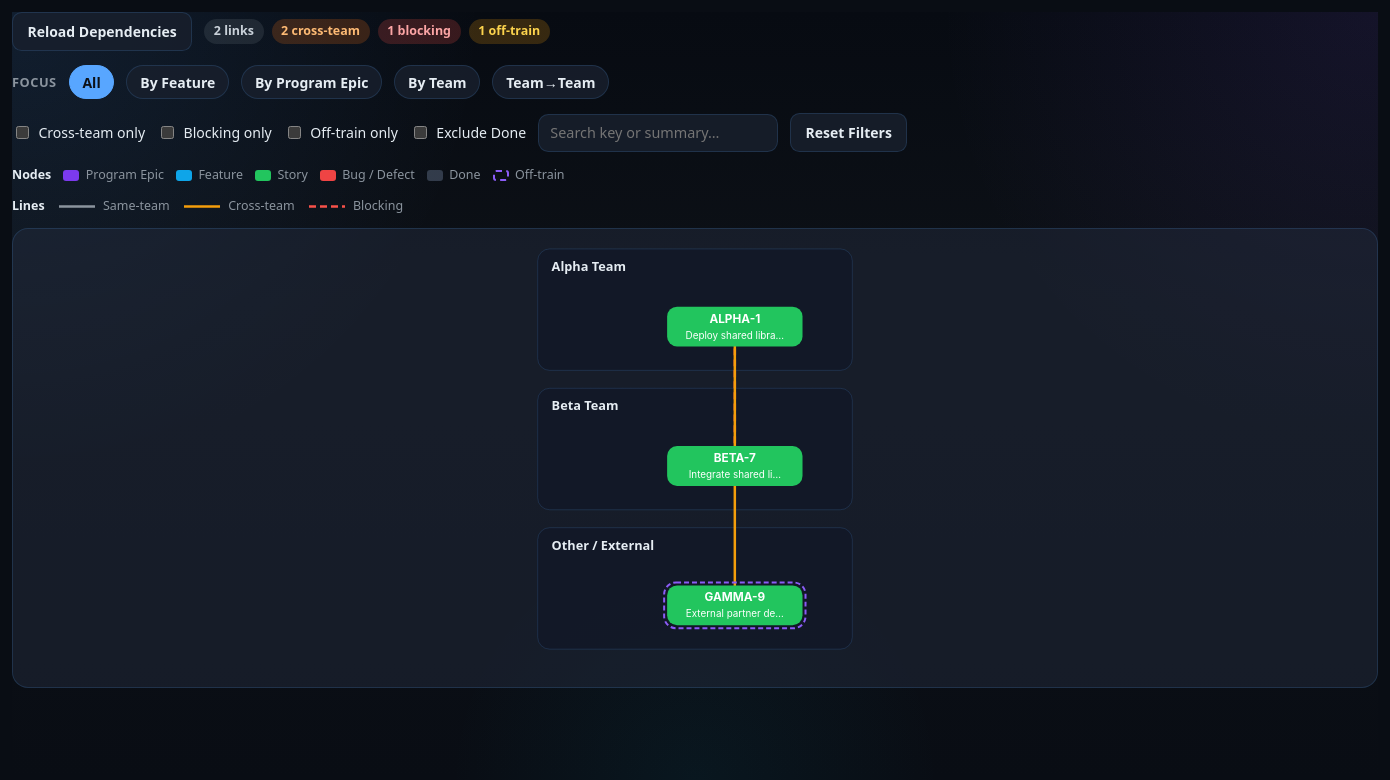
Test case: DependenciesTab › filters the graph to off-train edges only
The width and height of the screenshot is (1390, 780).
Expected: the icon named "Dependency Graph" is shown, [12, 228, 1378, 688]
Click the checkbox labelled "Off-train only" at x=294, y=133, box [288, 126, 301, 139]
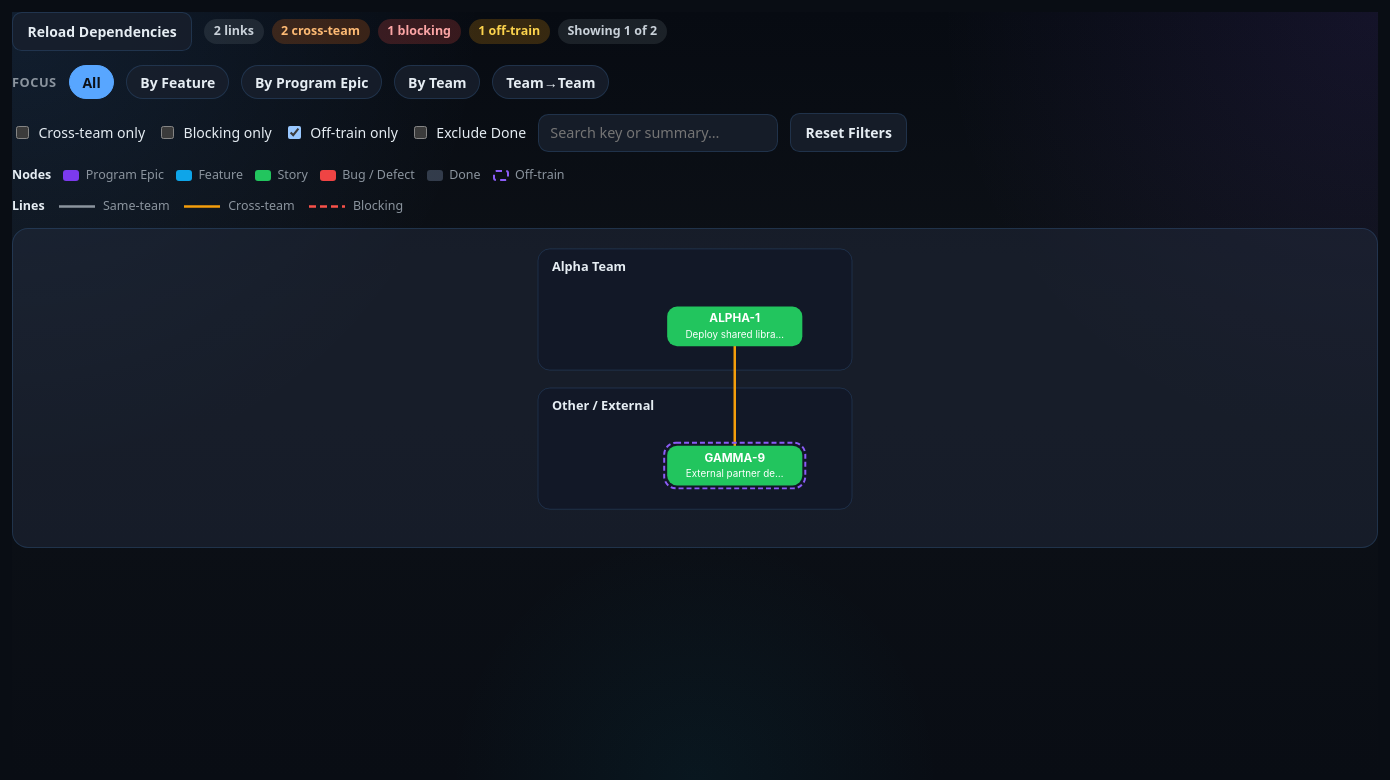
Expected: the button "open details for gamma-9" is shown, [686, 450, 784, 479]
Now the text "Showing 1 of 2" is shown, box [558, 19, 667, 44]
